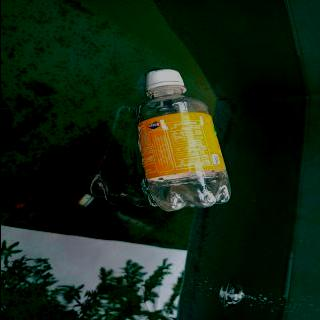bottle: (136, 68, 232, 212)
